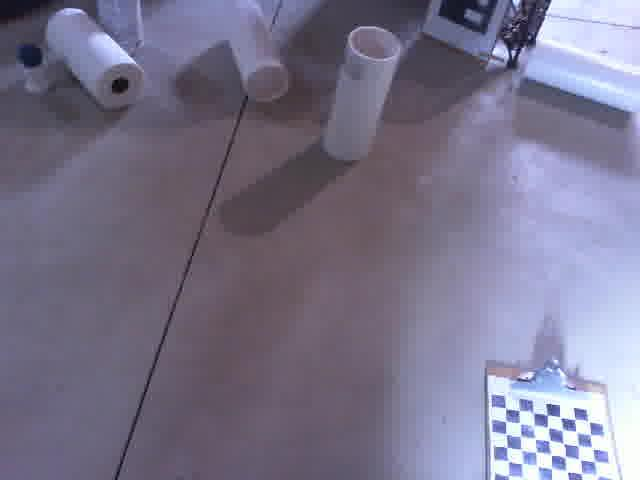coral: (315, 21, 405, 166), (518, 34, 640, 116), (223, 0, 292, 105)
